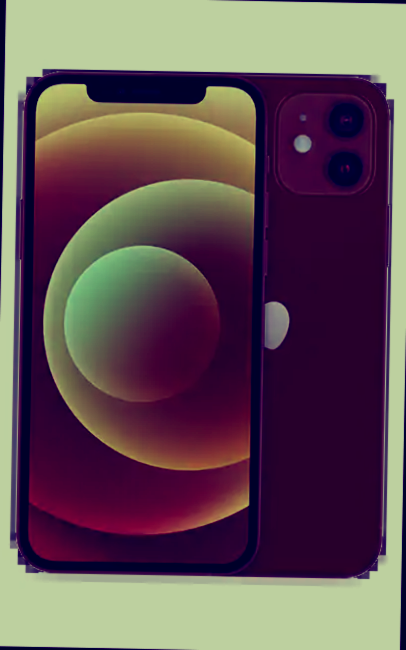iphone: (138, 75, 388, 578)
